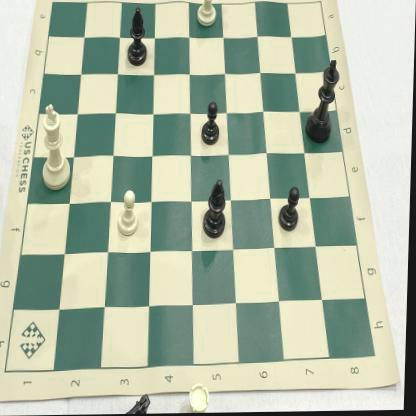black-bishop: (202, 177, 234, 242), (126, 2, 153, 72)
black-king: (304, 51, 345, 148)
black-pawn: (278, 182, 303, 237), (201, 97, 222, 147)
white-bishop: (195, 0, 221, 33)
white-king: (35, 99, 75, 197)
white-pawn: (115, 184, 145, 240)
